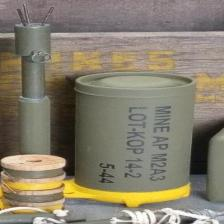M2A1: (12, 2, 210, 224)
